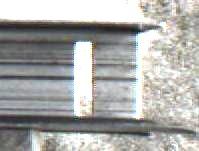40ngpress: (43, 18, 154, 135)
